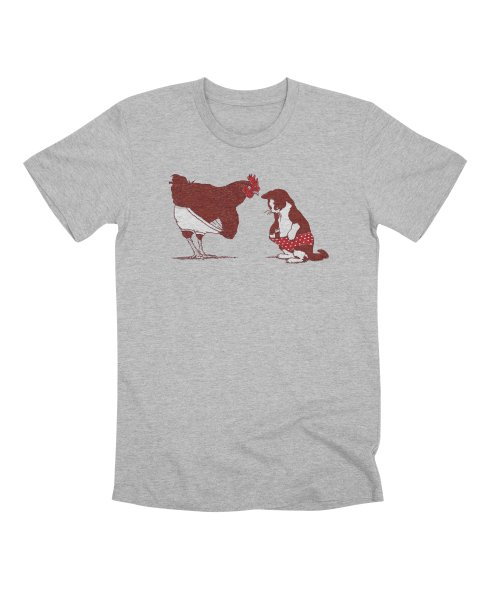design: (166, 169, 331, 265)
